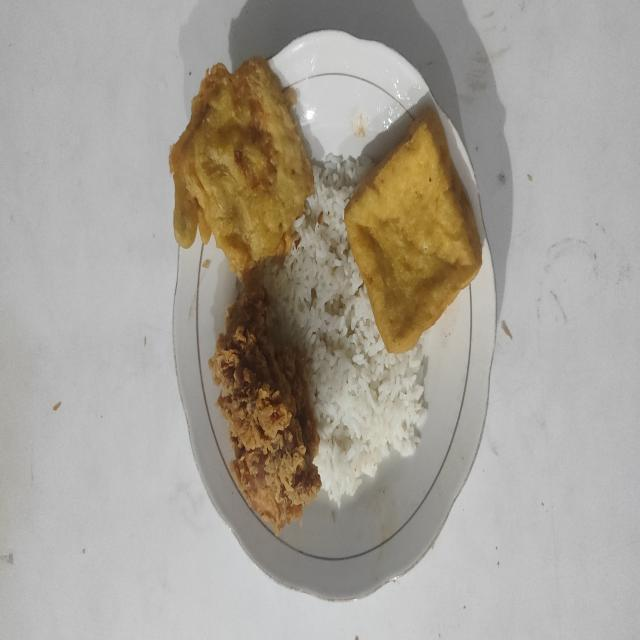nasi_putih: (265, 154, 427, 506)
tahu_goreng: (344, 106, 482, 353)
